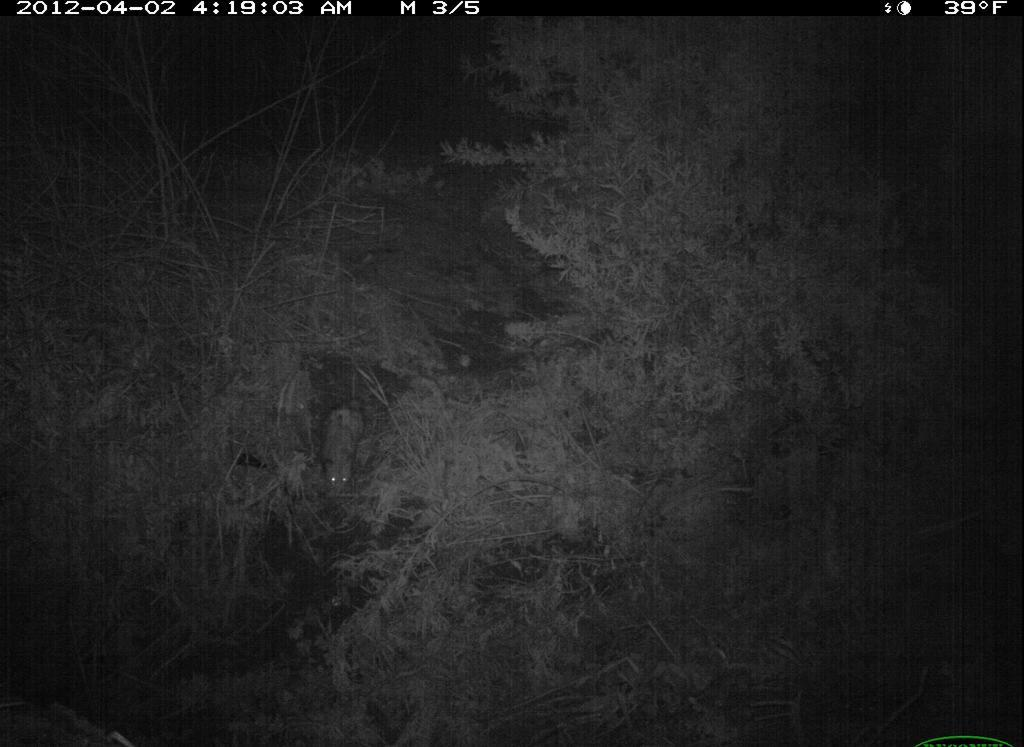opossum: (313, 386, 378, 513)
